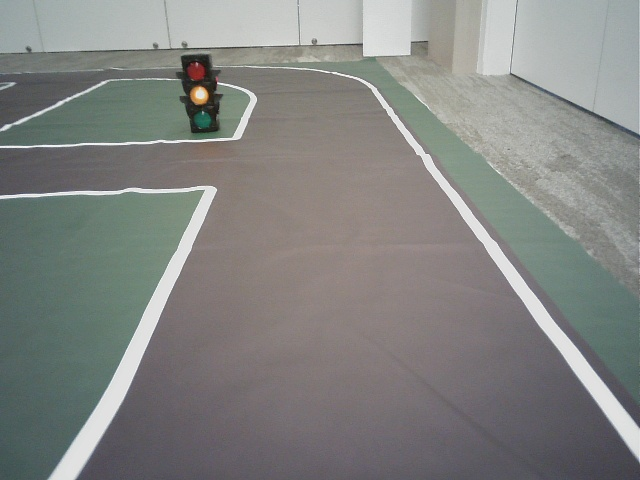yellow: (184, 59, 213, 130)
